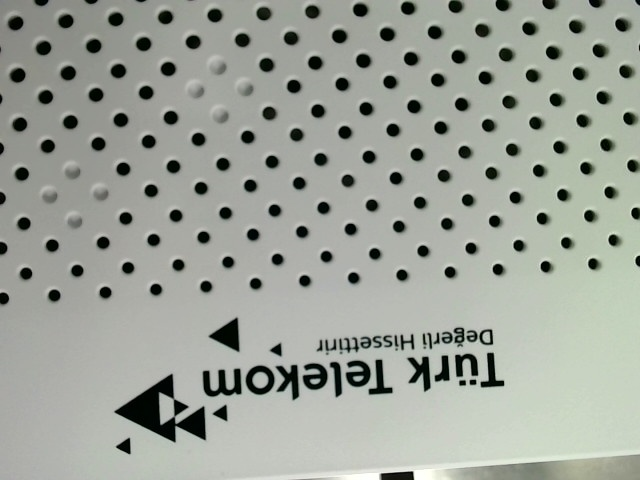AQ_TURKTelekom: (112, 307, 508, 454)
